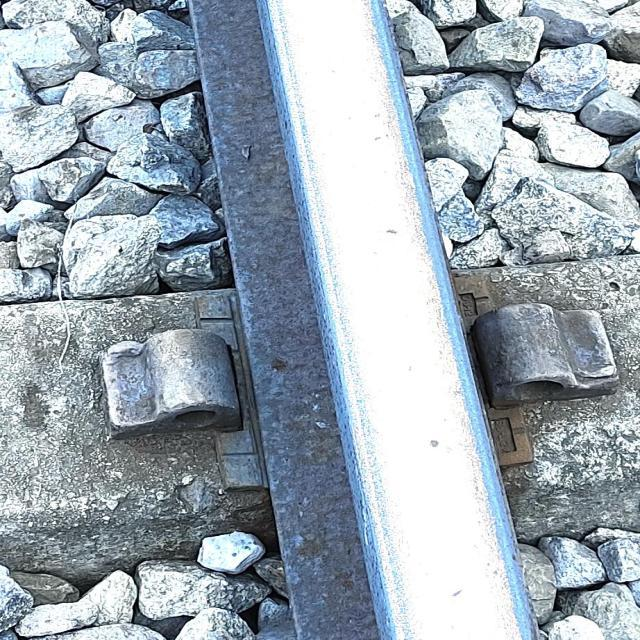Missing Fastener: (82, 325, 283, 459), (486, 288, 639, 428)
